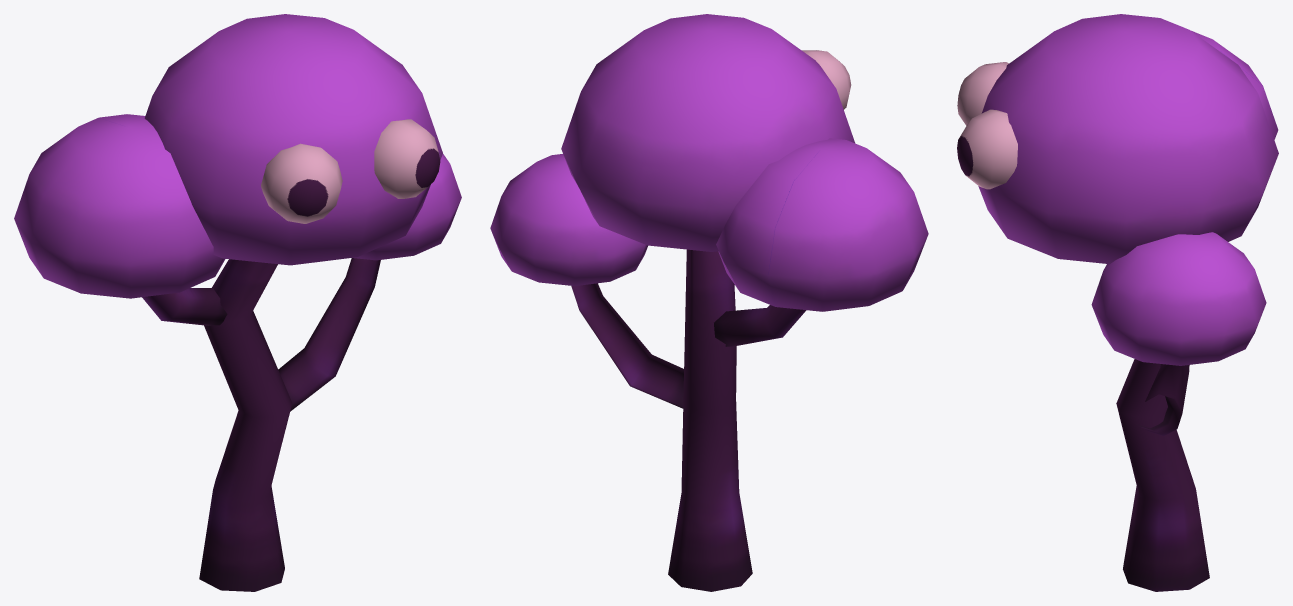
Rendered from Tree.fbx.
The picture shows the model from 3 angles, left to right: view 1: azimuth 30°, elevation 25°; view 2: azimuth 150°, elevation 25°; view 3: azimuth 270°, elevation 25°; orthographic projection. The views are drawn at different scales.
Visible parts, largest first — view 1: Cylinder.001, Cylinder.003, Cylinder.002; view 2: Cylinder.001, Cylinder.003; view 3: Cylinder.001, Cylinder.002, Cylinder.003.
Part boxes in pixels (bbox=[...]): Cylinder.001: bbox=[14, 14, 461, 591]; Cylinder.003: bbox=[261, 143, 342, 223]; Cylinder.002: bbox=[374, 119, 440, 198]; Cylinder.001: bbox=[490, 14, 928, 591]; Cylinder.003: bbox=[802, 50, 851, 109]; Cylinder.001: bbox=[978, 14, 1278, 591]; Cylinder.002: bbox=[957, 109, 1017, 189]; Cylinder.003: bbox=[957, 62, 1008, 125].
Bounding box in the file's own units: 240 × 295 × 156.
